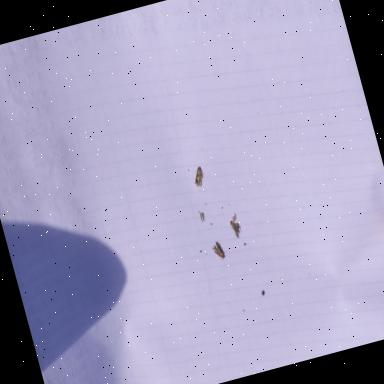pbw: (210, 240, 226, 262), (191, 166, 206, 189)
